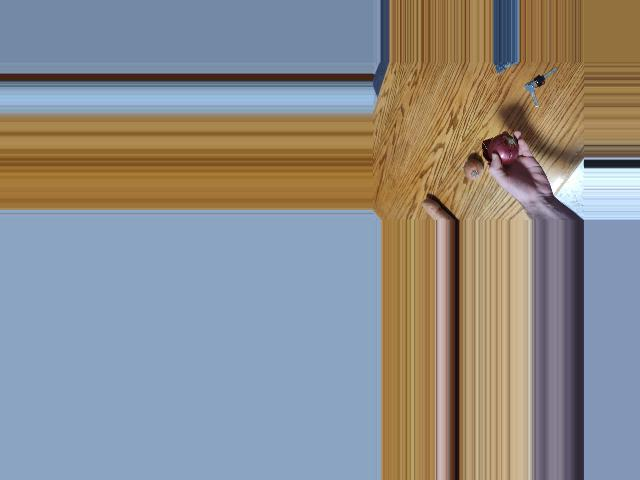onion: (488, 134, 516, 162)
